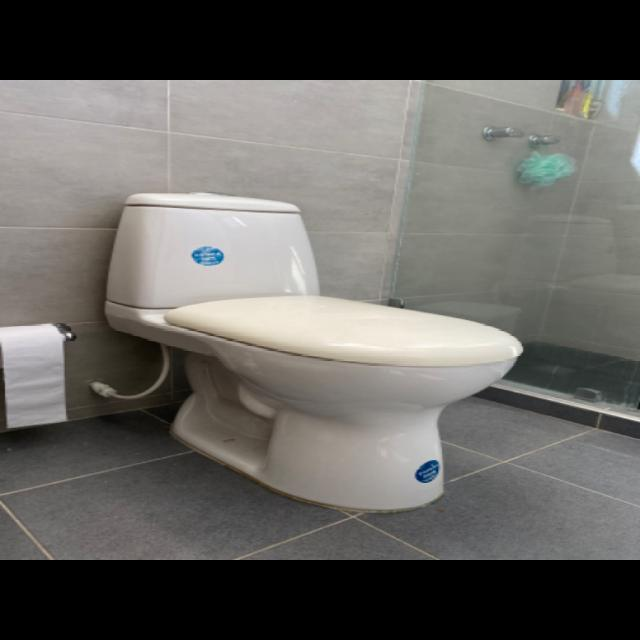toilet: (103, 191, 523, 512)
